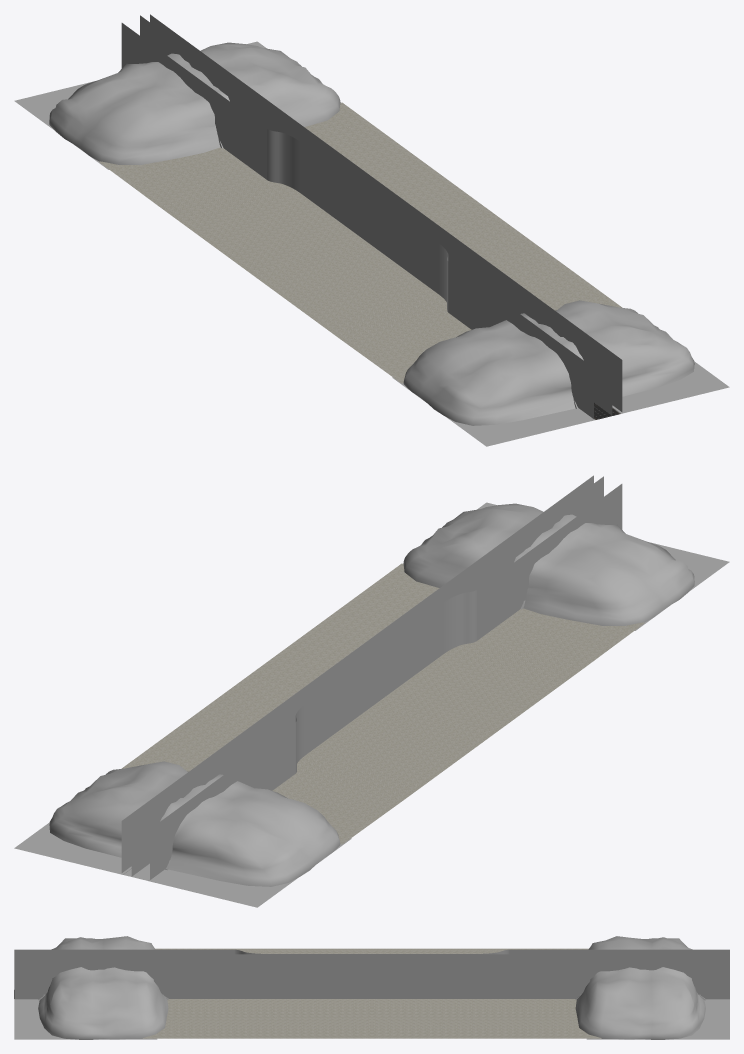
The model's file is City_Track_A1505.fbx.
3 renders of one model, top to bottom at view 1: azimuth 30°, elevation 25°; view 2: azimuth 150°, elevation 25°; view 3: azimuth 270°, elevation 25°, orthographic. The views are drawn at different scales.
Visible parts, largest first — view 1: CitySidewalk_A, Mountain_G, City_A_Wall_L, CityAI_A, Sand_G, CityA_Wall_R; view 2: CitySidewalk_A, Mountain_G, City_A_Wall_L, CityAI_A, Sand_G, CityA_Wall_R; view 3: CityA_Wall_R, CitySidewalk_A, Mountain_G, CityAI_A, City_A_Wall_L, Sand_G.
Part boxes in pixels (bbox=[...]): CitySidewalk_A: bbox=[99, 102, 622, 383]; Mountain_G: bbox=[49, 42, 694, 425]; City_A_Wall_L: bbox=[121, 23, 593, 418]; CityAI_A: bbox=[140, 15, 612, 415]; Sand_G: bbox=[14, 41, 729, 446]; CityA_Wall_R: bbox=[150, 14, 622, 411]; CitySidewalk_A: bbox=[121, 563, 644, 844]; Mountain_G: bbox=[49, 503, 694, 886]; City_A_Wall_L: bbox=[150, 484, 622, 879]; CityAI_A: bbox=[131, 476, 603, 876]; Sand_G: bbox=[14, 502, 729, 907]; CityA_Wall_R: bbox=[121, 475, 593, 872]; CityA_Wall_R: bbox=[14, 959, 729, 998]; CitySidewalk_A: bbox=[142, 948, 601, 1038]; Mountain_G: bbox=[38, 936, 705, 1039]; CityAI_A: bbox=[14, 954, 729, 959]; City_A_Wall_L: bbox=[14, 949, 729, 954]; Sand_G: bbox=[14, 999, 729, 1039].
Bounding box in the file's own units: 171 × 36.62 × 568.
